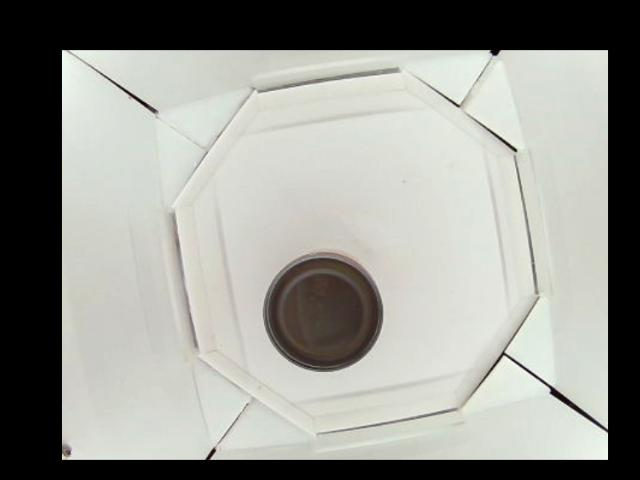Bottle: (262, 250, 383, 371)
